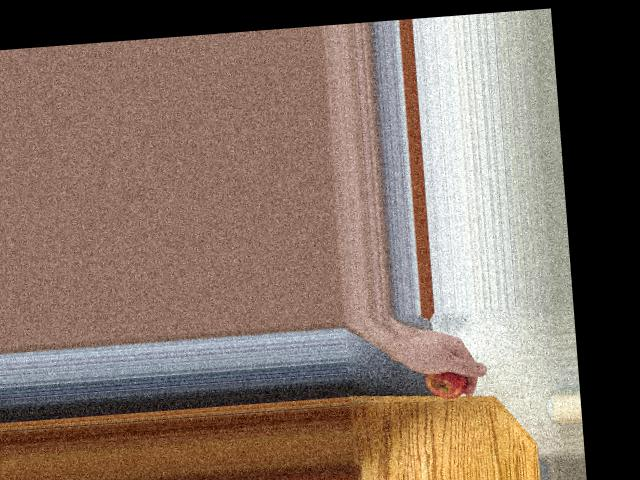apple: (421, 355, 471, 403)
